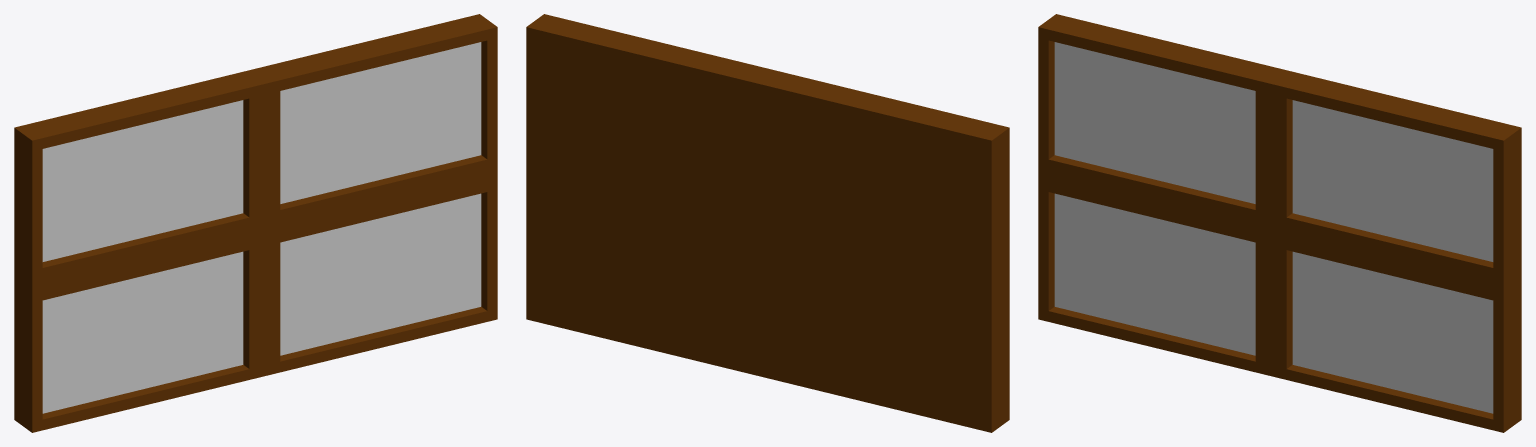
File: window_simple_big.glb
3 renders of one model, left to right at view 1: azimuth 30°, elevation 25°; view 2: azimuth 150°, elevation 25°; view 3: azimuth 330°, elevation 25°, orthographic.
Visible parts, largest first — view 1: window_simple_big; view 2: window_simple_big; view 3: window_simple_big.
Part boxes in pixels (bbox=[...]): window_simple_big: bbox=[14, 14, 497, 432]; window_simple_big: bbox=[526, 14, 1009, 432]; window_simple_big: bbox=[1038, 14, 1521, 432].
Size of the model in its own units: 4.5 by 2.7 by 0.3.
Materials: 1 (1 with a texture image).
